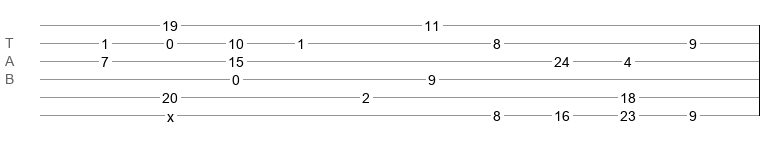0: (166, 36, 174, 46), (232, 72, 240, 82)
1: (101, 36, 109, 46), (297, 36, 305, 46)
10: (228, 36, 244, 46)
11: (424, 18, 440, 28)
15: (228, 54, 244, 64)
16: (554, 108, 570, 118)
18: (620, 90, 636, 100)
19: (162, 18, 178, 28)
2: (362, 90, 370, 100)
20: (162, 90, 178, 100)
23: (620, 108, 636, 118)
24: (554, 54, 570, 64)
4: (624, 54, 632, 64)
7: (101, 54, 109, 64)
8: (493, 108, 501, 118), (493, 36, 501, 46)
9: (428, 72, 436, 82), (689, 108, 697, 118), (689, 36, 697, 46)
x: (167, 109, 174, 117)
